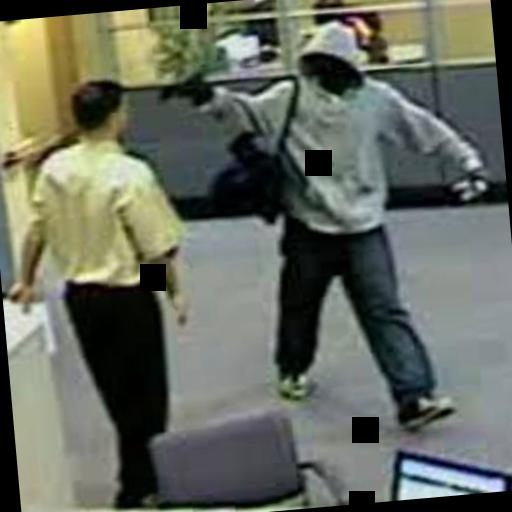Handgun: (152, 68, 208, 117)
